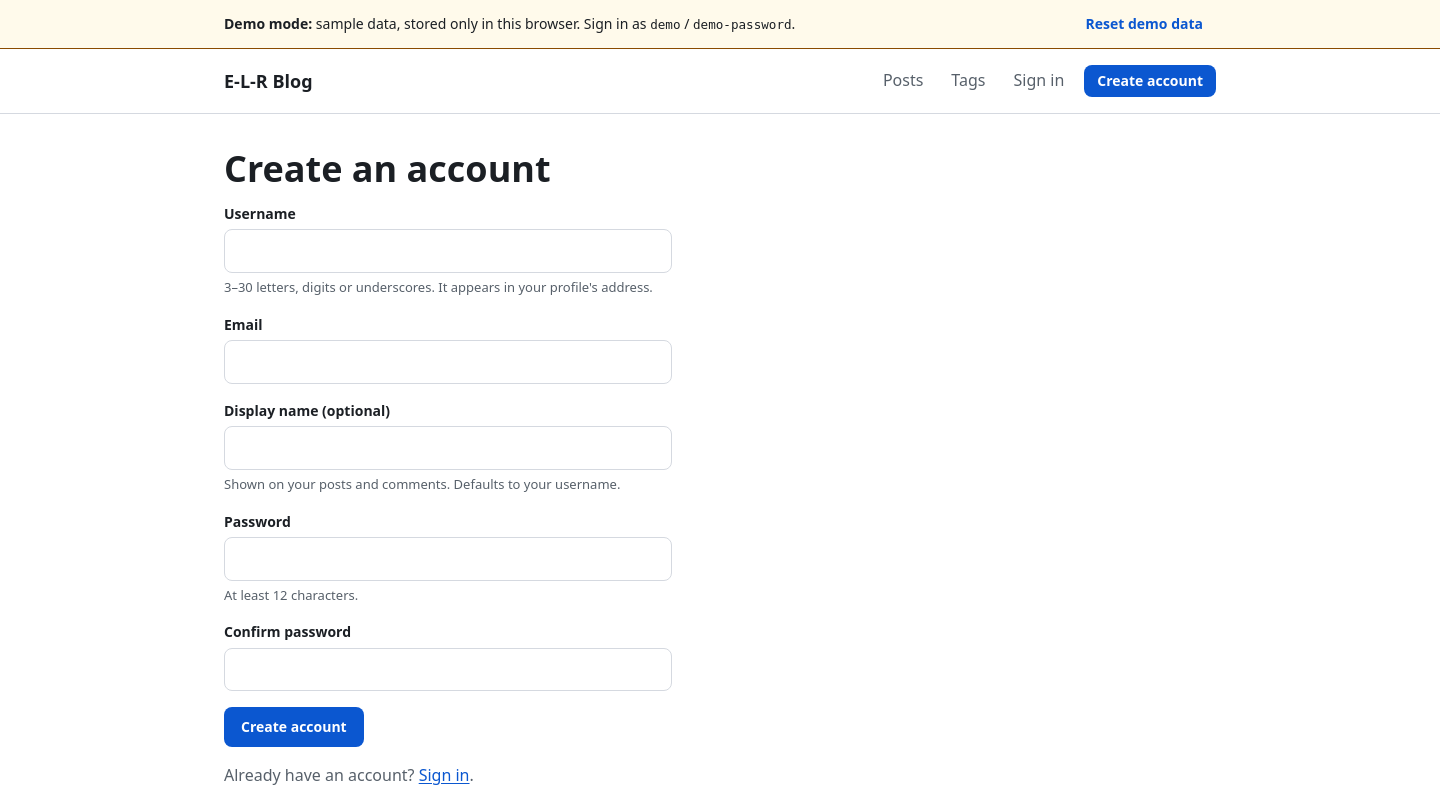
Test: register › checks the backend’s password rules before sending
Type "carol" into the field labelled "Username".
click(448, 251); type("carol")  # box [224, 229, 672, 273]
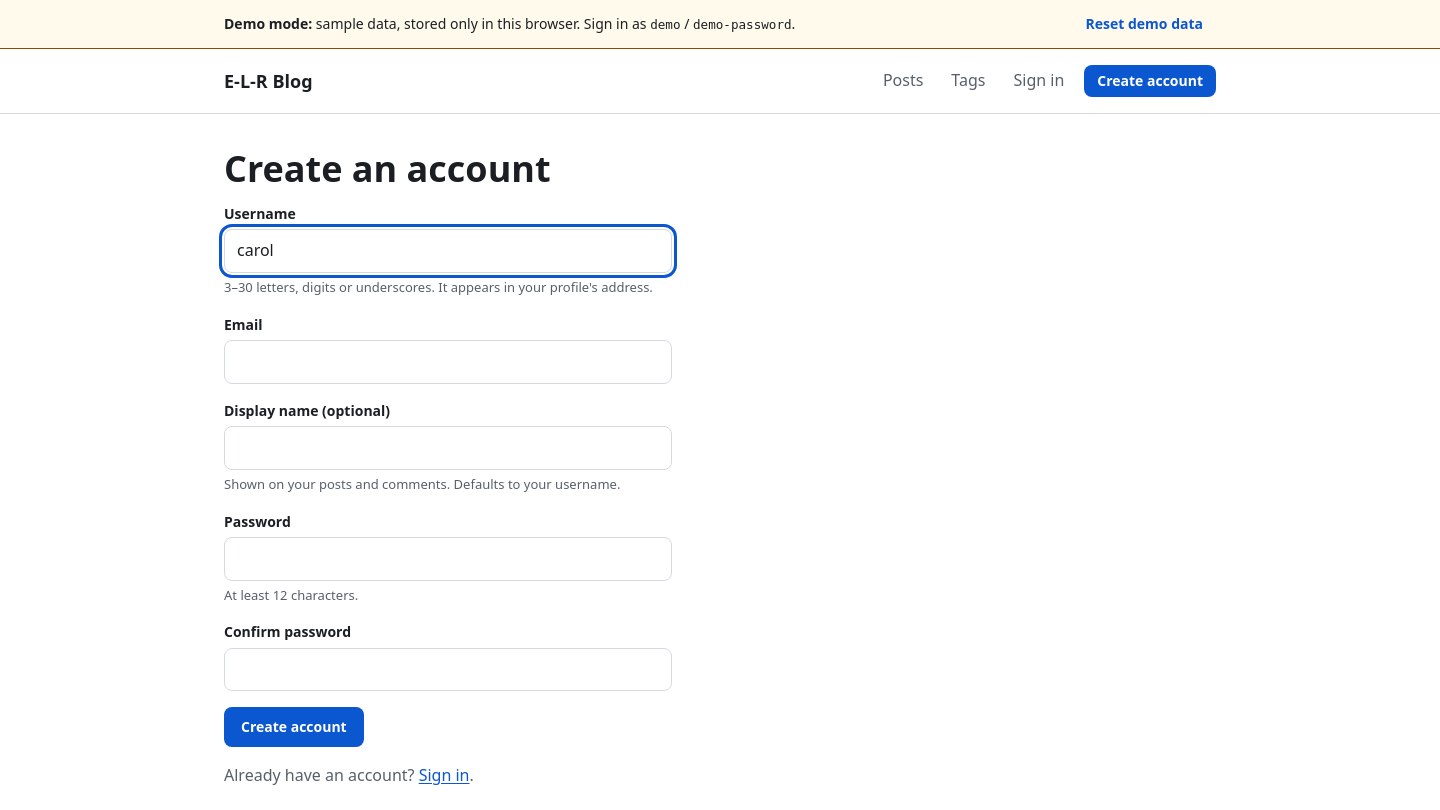
Type "carol@example.com" into the field labelled "Email".
click(448, 362); type("carol@example.com")  # box [224, 340, 672, 384]
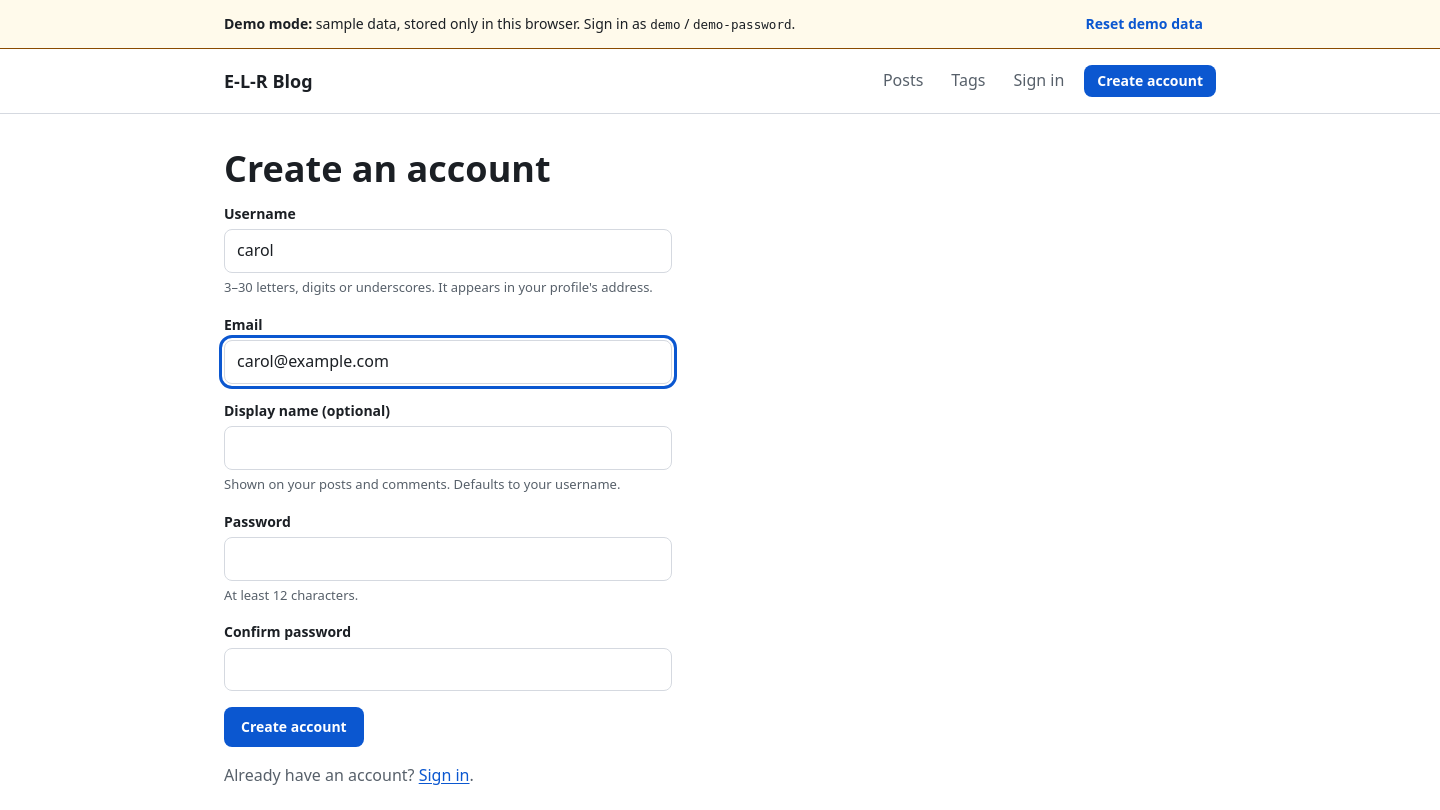
Type "carol-is-my-name" into the password field labelled "Password".
click(448, 559); type("carol-is-my-name")  # box [224, 537, 672, 580]
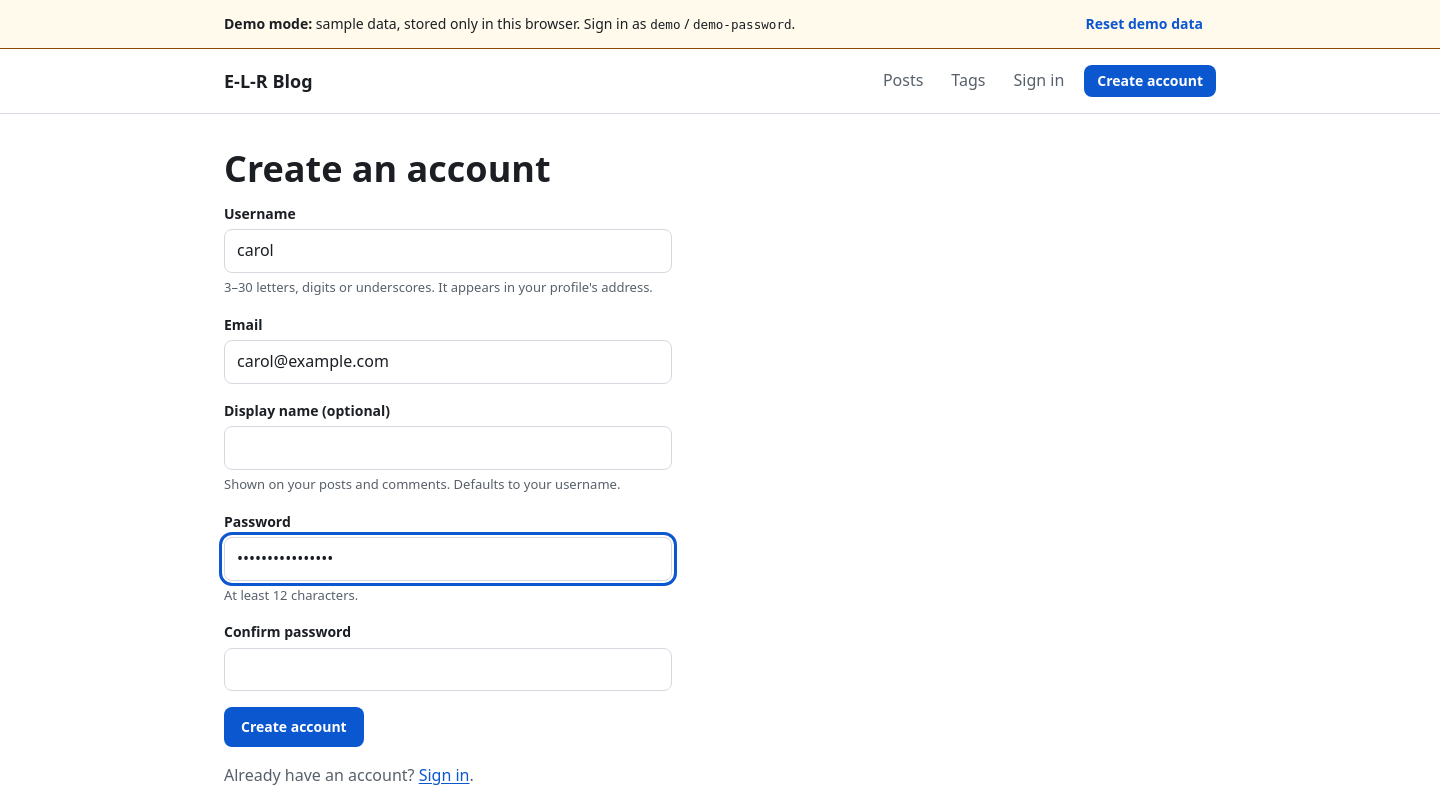
Type "something else" into the password field labelled "Confirm password".
click(448, 670); type("something else")  # box [224, 648, 672, 691]
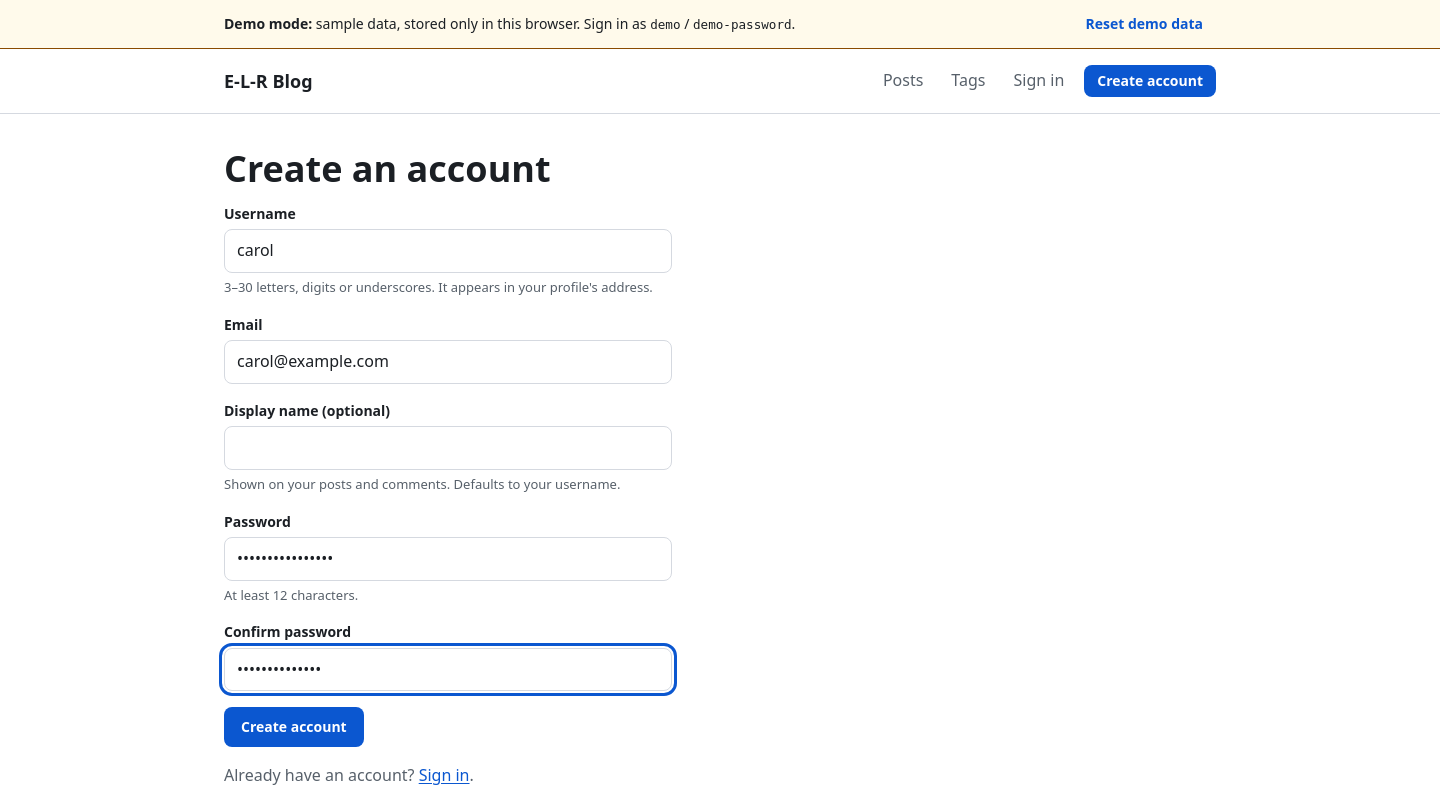
Click the button "Create account".
click(294, 727)  # box [224, 707, 364, 747]
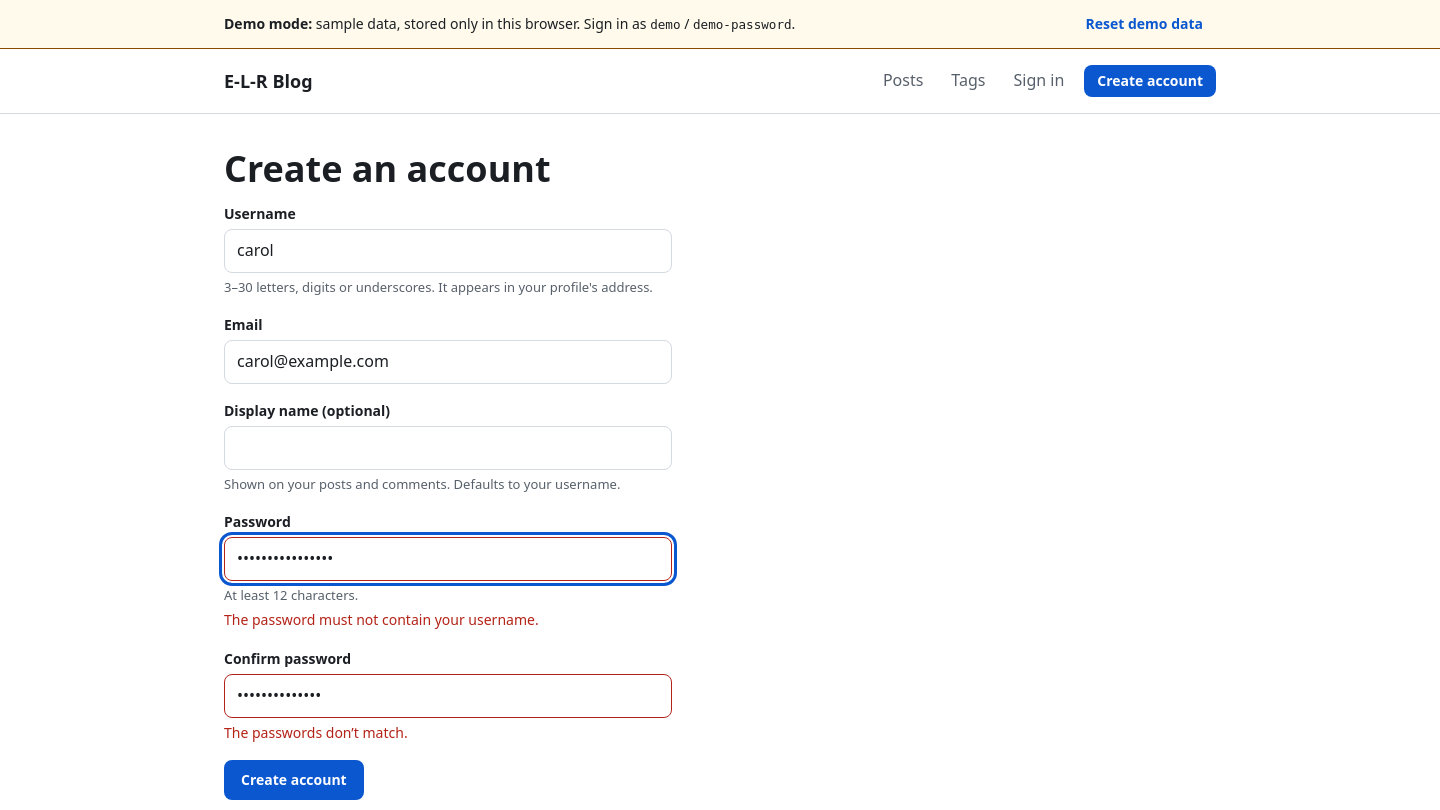
Expected: the text "The password must not contain your username." is shown, [224, 610, 539, 629]
Expected: the text "The passwords don’t match." is shown, [224, 723, 408, 742]
